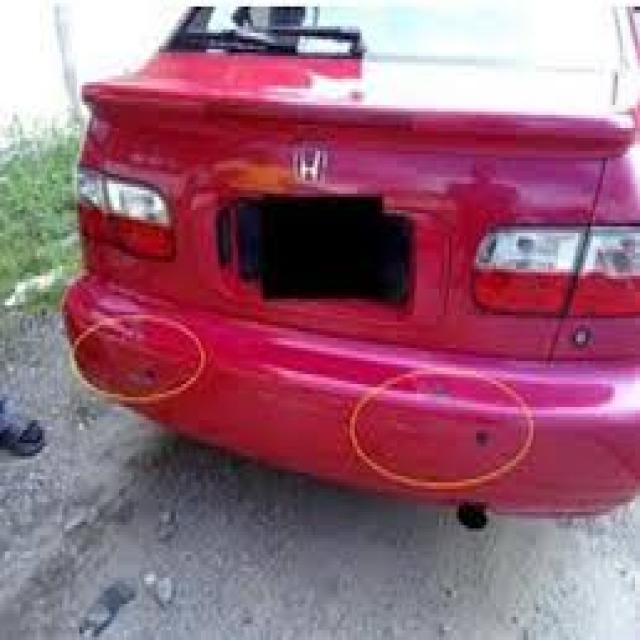minor: (65, 284, 540, 500)
